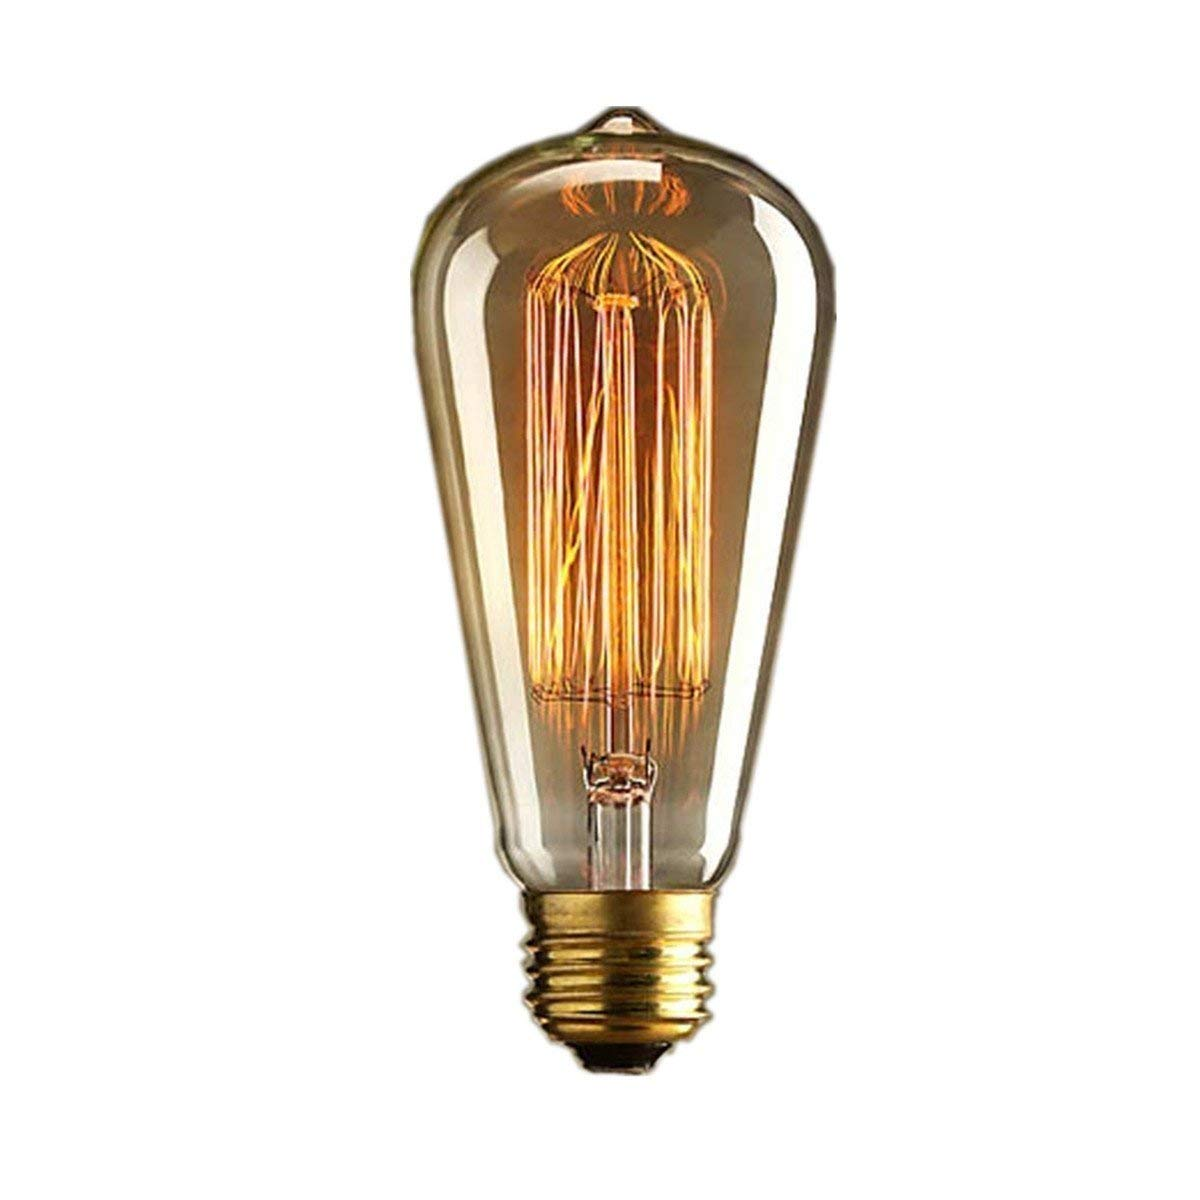Nonrec_Glass: (379, 84, 800, 1109)
